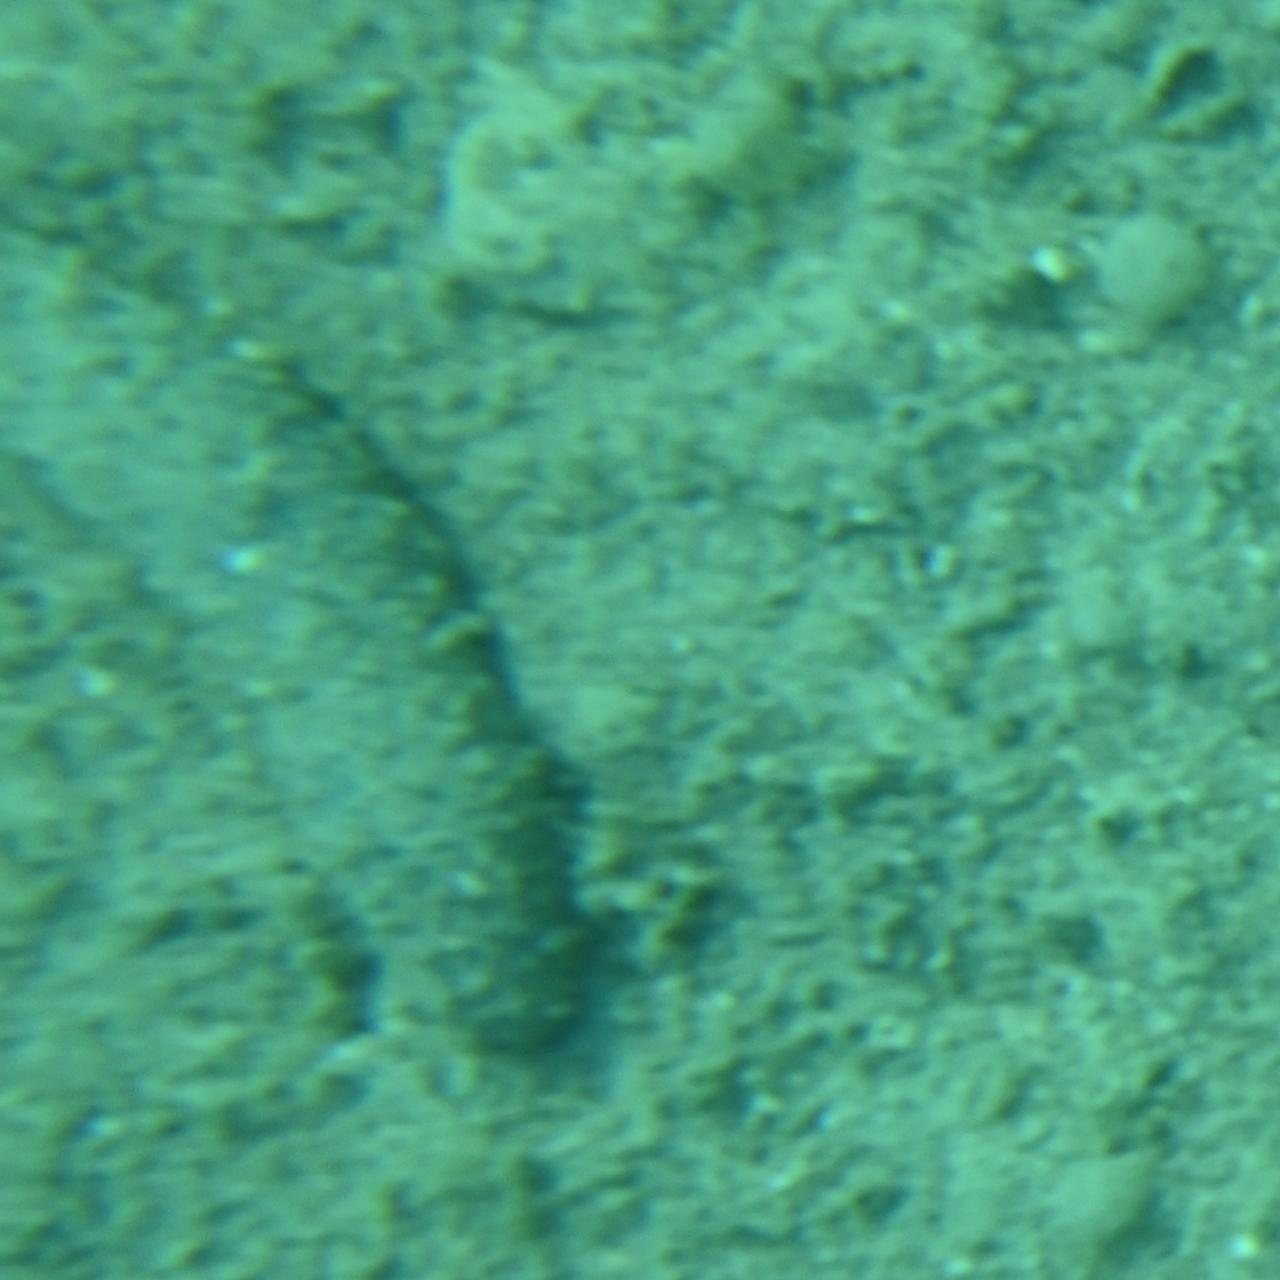Holothuria tubulosa: (2, 220, 612, 1060)
